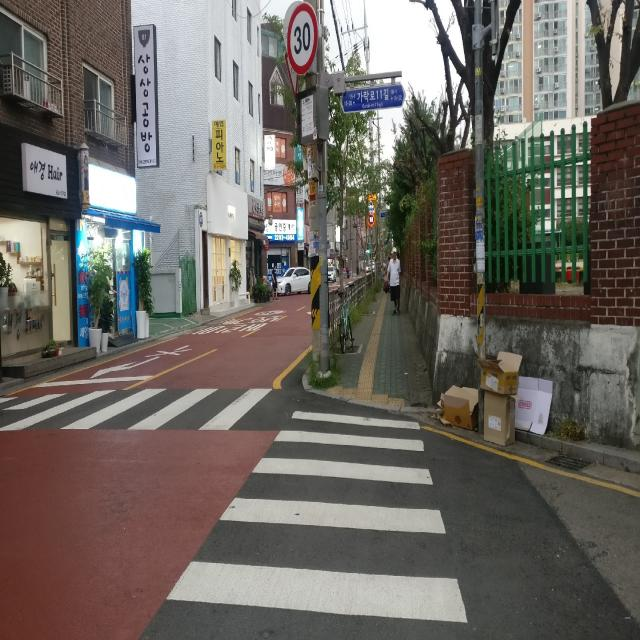횡단보도: (165, 406, 469, 626), (2, 388, 275, 428)
